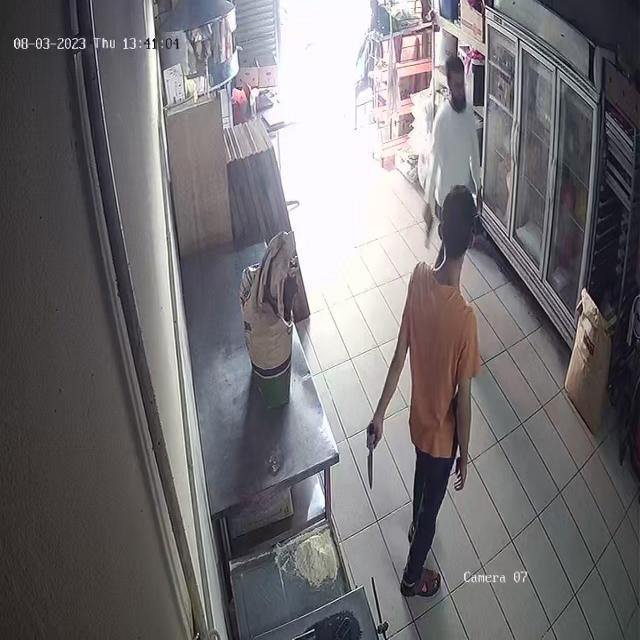Gun: (406, 203, 437, 249)
Knife: (357, 422, 391, 502)
